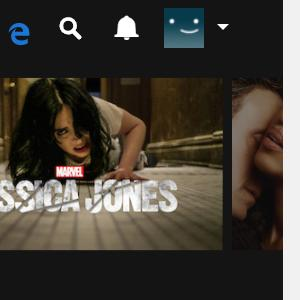edge: (8, 22, 30, 46)
